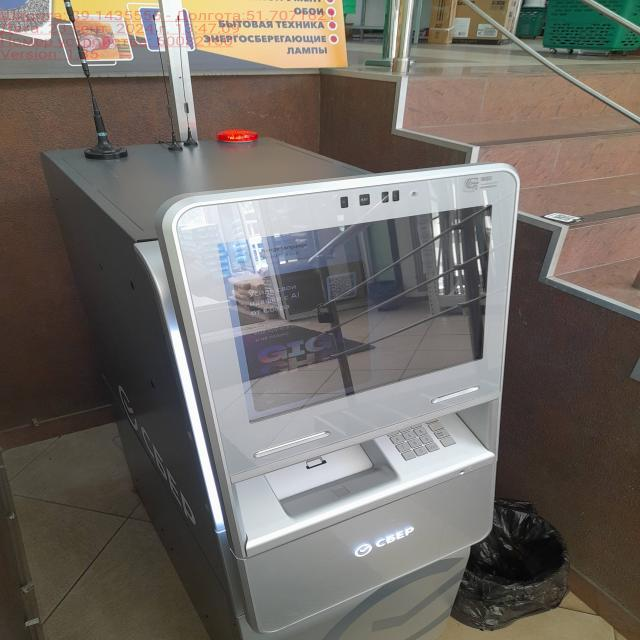bank: (49, 129, 519, 640)
